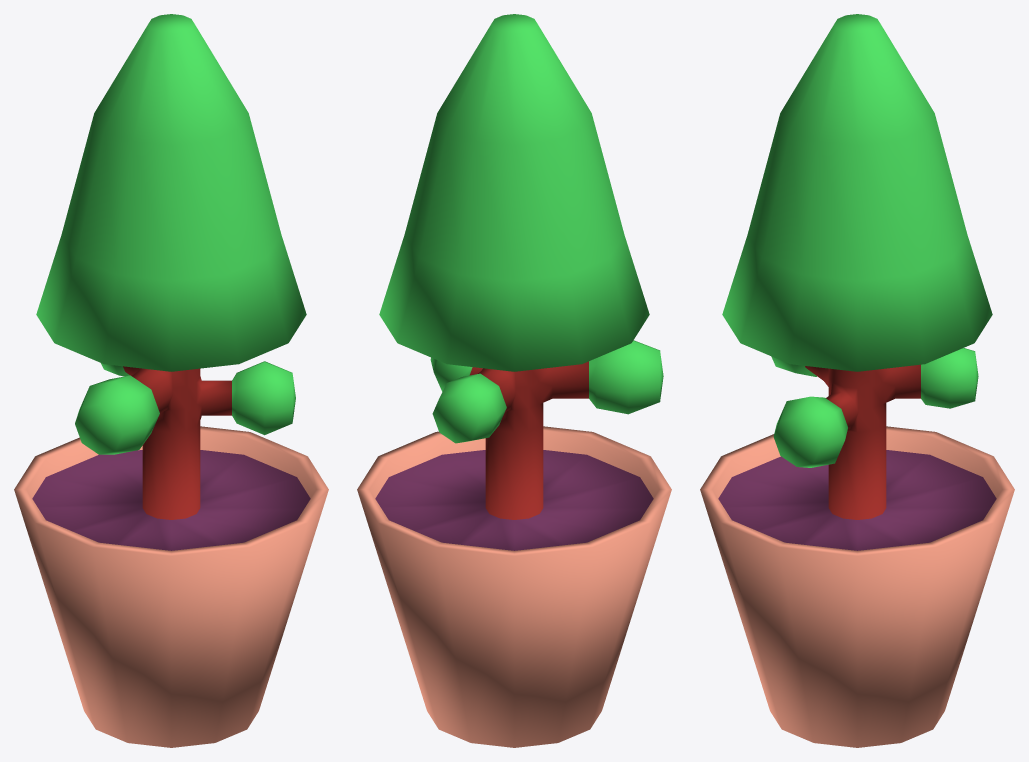
The model's file is bitki.fbx.
3 views of the same model, side by side, from view 1: azimuth 30°, elevation 25°; view 2: azimuth 150°, elevation 25°; view 3: azimuth 270°, elevation 25° (orthographic).
Visible parts, largest first — view 1: Cylinder.001; view 2: Cylinder.001; view 3: Cylinder.001.
Part boxes in pixels (x1,y1,x2,y2): Cylinder.001: (14, 14, 328, 747); Cylinder.001: (357, 14, 671, 747); Cylinder.001: (700, 14, 1014, 747).
Size of the model in its own units: 120 by 289 by 120.
